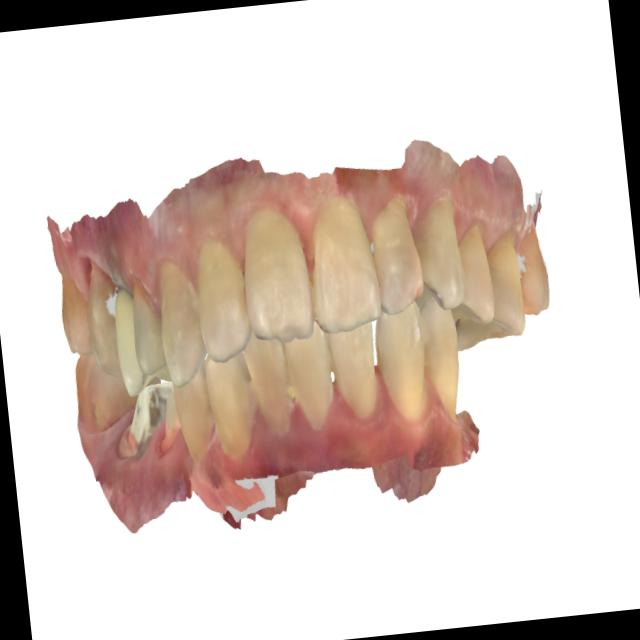tooth: (223, 185, 329, 363), (297, 178, 393, 350), (185, 221, 270, 377), (358, 171, 437, 333), (403, 166, 477, 336), (143, 243, 218, 400), (362, 291, 442, 437), (195, 335, 271, 478), (442, 196, 507, 355), (317, 301, 392, 438), (276, 307, 347, 445), (233, 318, 305, 450), (475, 202, 537, 354), (412, 280, 470, 435), (164, 352, 225, 480), (118, 251, 173, 388), (499, 200, 560, 323), (73, 245, 126, 386), (103, 272, 152, 404), (106, 376, 173, 471), (49, 259, 100, 371), (69, 348, 129, 439), (151, 381, 187, 463)
